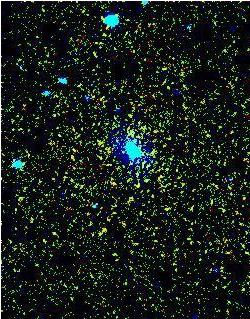star: (137, 140, 167, 170)
